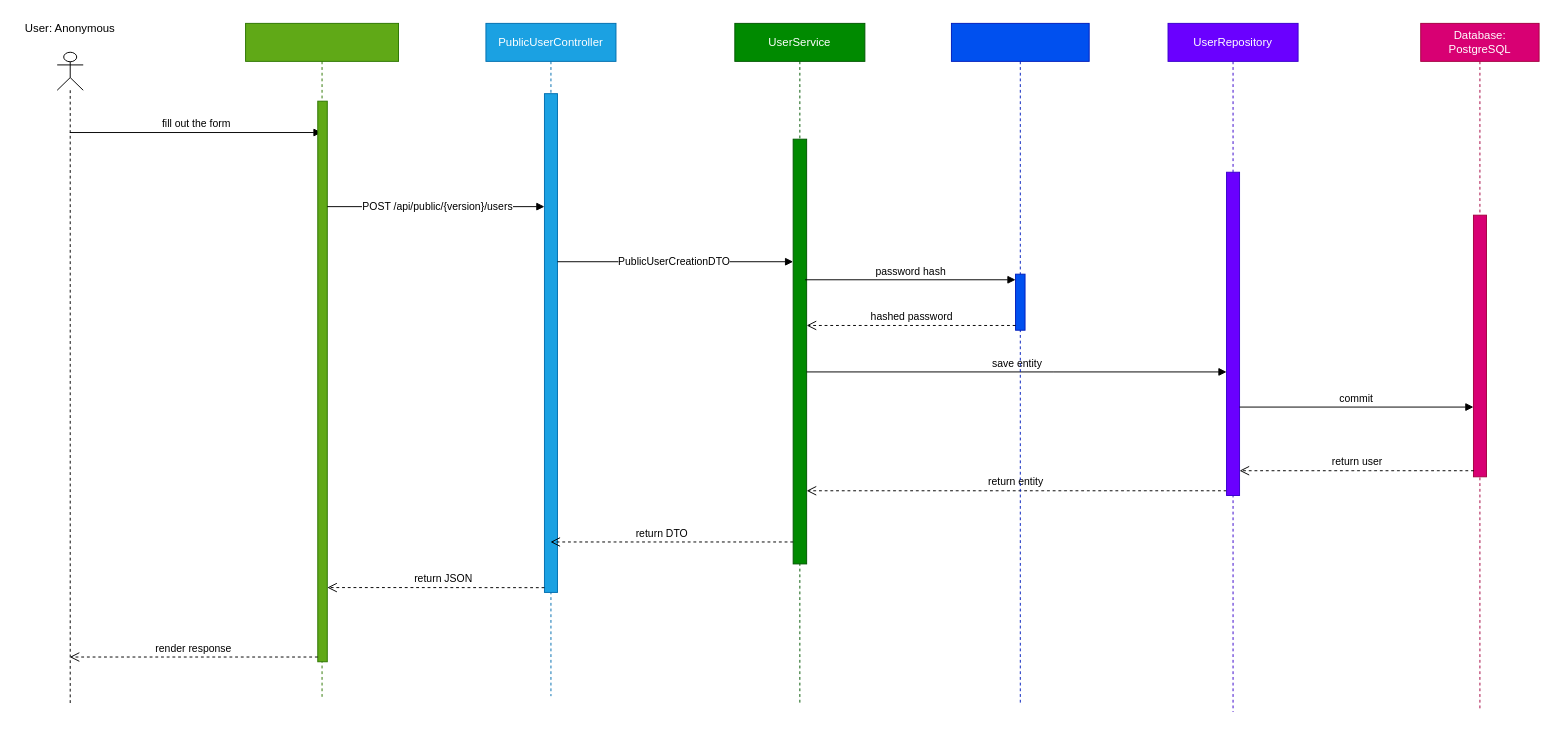
The diagram is 1556 pixels wide and 729 high, and some of its shapes have lost their labels. The box of each missing label's shape, as (x1, y1, x2, y2) in pixels:
Front-end: (245, 22, 399, 697)
PasswordEncoder: Bcrypt: (950, 22, 1089, 705)
